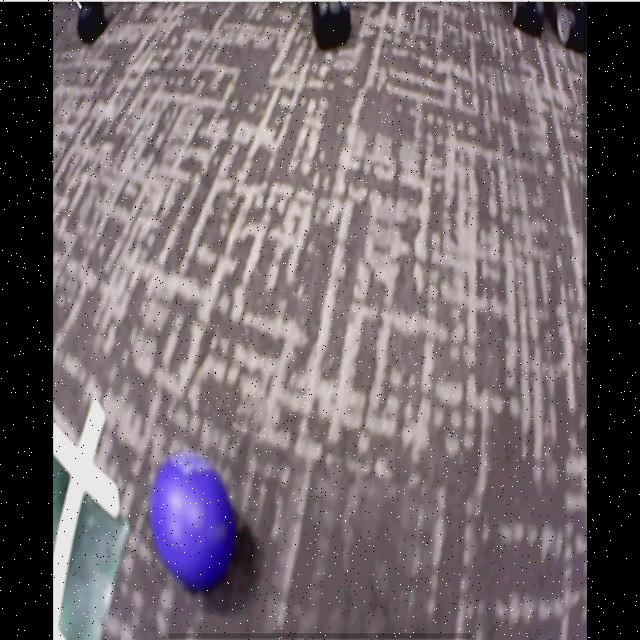ball: (153, 455, 237, 591)
